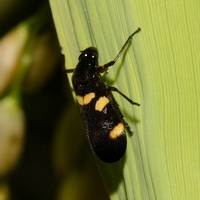insect: (64, 27, 140, 162)
